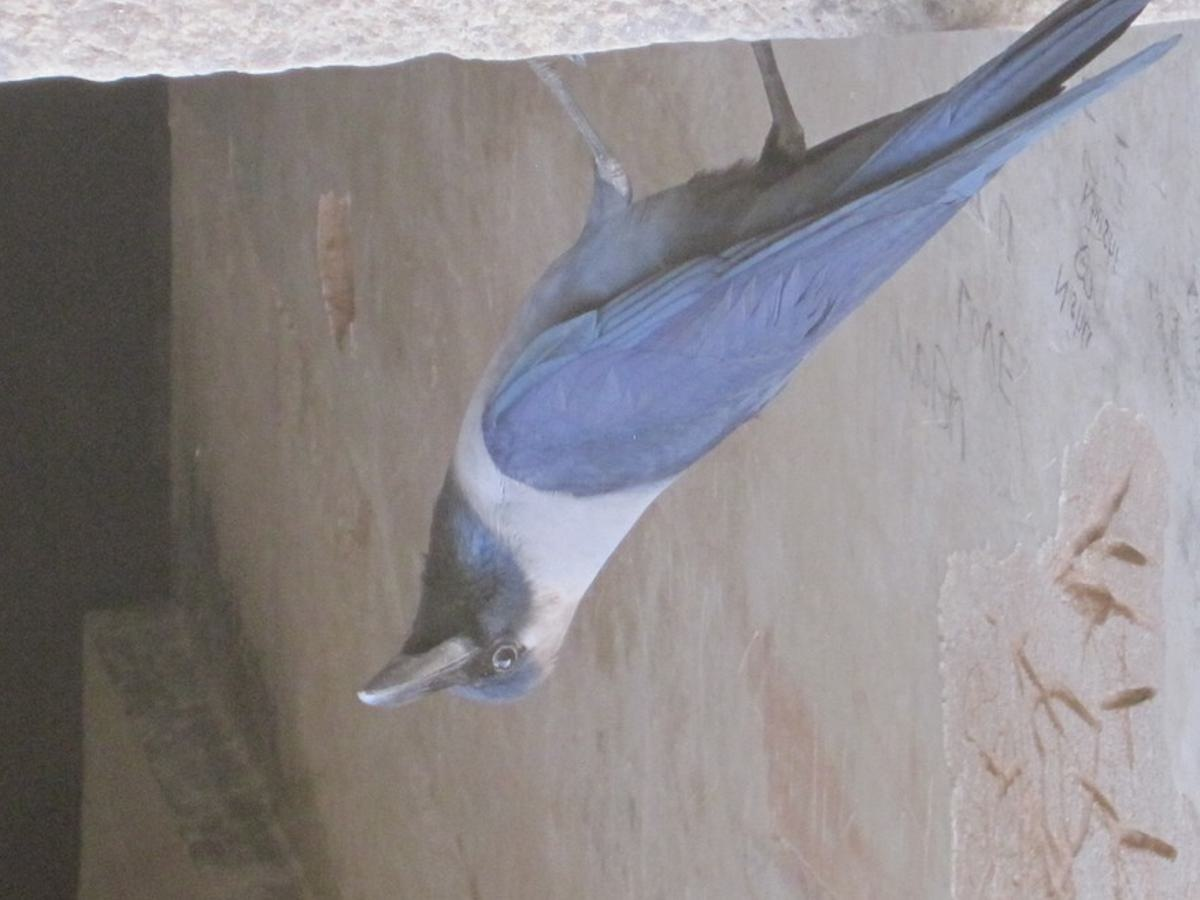crow: (348, 1, 1176, 718)
